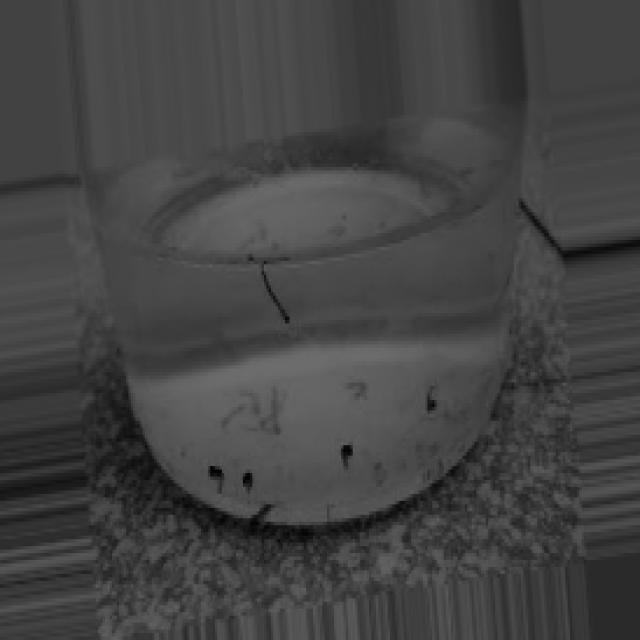larvas: (262, 261, 290, 327), (240, 389, 262, 417), (347, 377, 368, 403), (272, 385, 282, 438), (220, 406, 238, 430), (211, 460, 224, 493), (339, 443, 354, 471), (253, 502, 274, 521), (426, 388, 439, 413), (242, 473, 255, 497)
